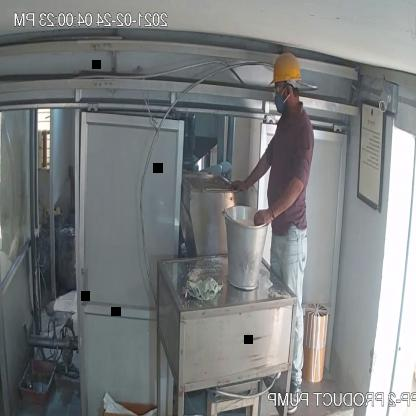helmet: (268, 51, 302, 94)
